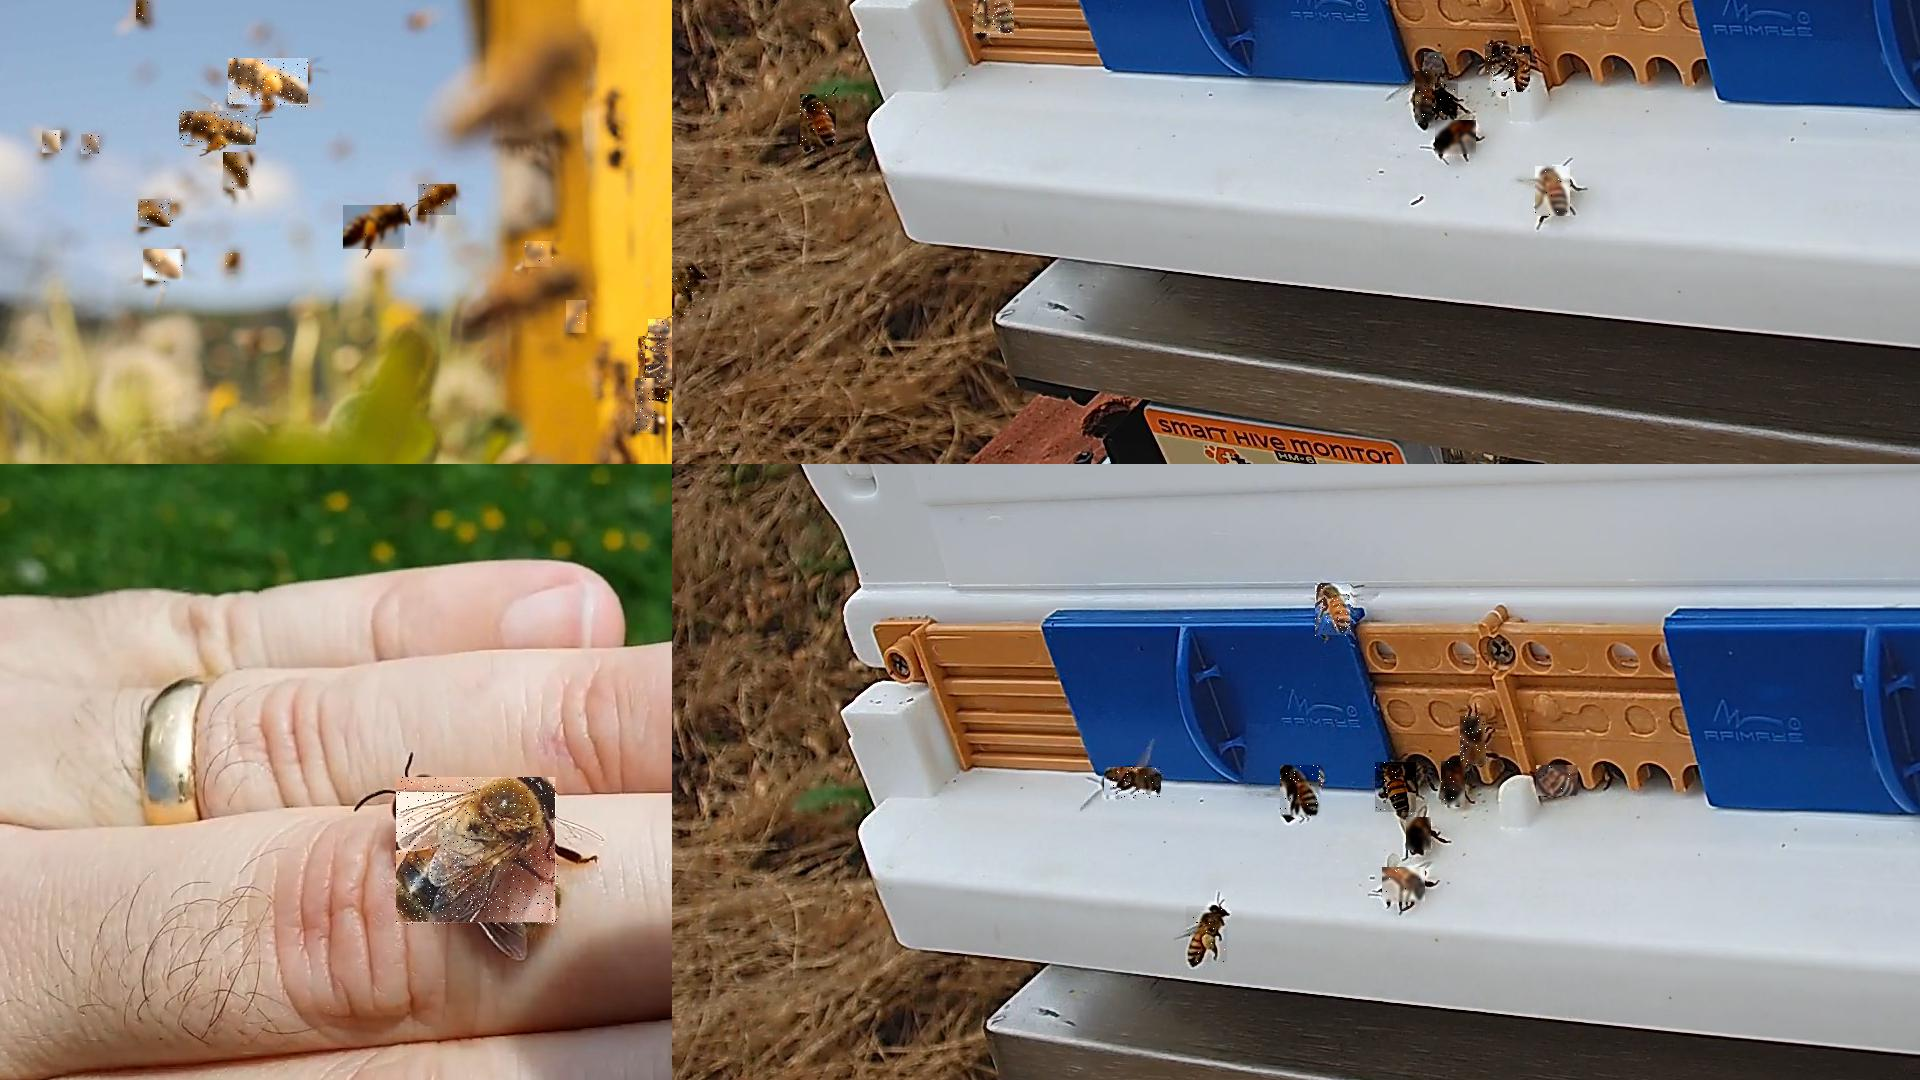bee: (1280, 766, 1324, 820), (1316, 584, 1356, 638), (800, 95, 837, 150), (640, 336, 670, 402), (1493, 46, 1531, 96), (1104, 767, 1162, 800), (647, 319, 671, 389), (1382, 868, 1427, 905), (1435, 121, 1477, 157), (144, 251, 186, 284), (418, 185, 458, 219), (1460, 716, 1487, 765), (1536, 765, 1578, 796), (636, 378, 658, 434), (1441, 762, 1466, 808), (224, 153, 253, 193), (1415, 73, 1436, 125), (138, 199, 175, 228), (1406, 818, 1432, 853), (1432, 83, 1460, 116), (1485, 45, 1514, 75), (526, 241, 555, 268), (567, 301, 589, 334), (44, 131, 65, 154), (82, 135, 100, 158), (1424, 53, 1443, 76), (136, 0, 152, 24), (225, 253, 241, 274)
drone: (397, 778, 560, 927)
pollenbee: (228, 59, 309, 109), (344, 206, 407, 251), (179, 111, 257, 146), (1185, 906, 1228, 963), (1375, 764, 1418, 816), (673, 265, 707, 320), (1535, 166, 1571, 218), (973, 0, 1015, 38)
